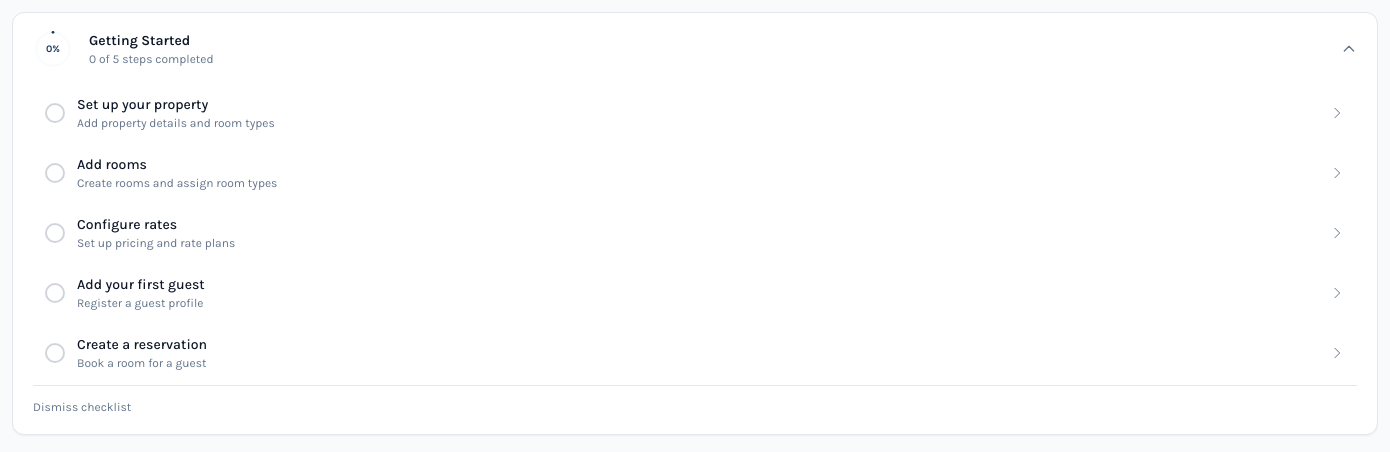
OnboardingChecklist › has proper aria-expanded attribute on toggle button
This screenshot has width=1390, height=452.
Click the button "0% Getting Started 0 of 5 steps completed". click: [53, 49]
box: [13,13,1377,85]
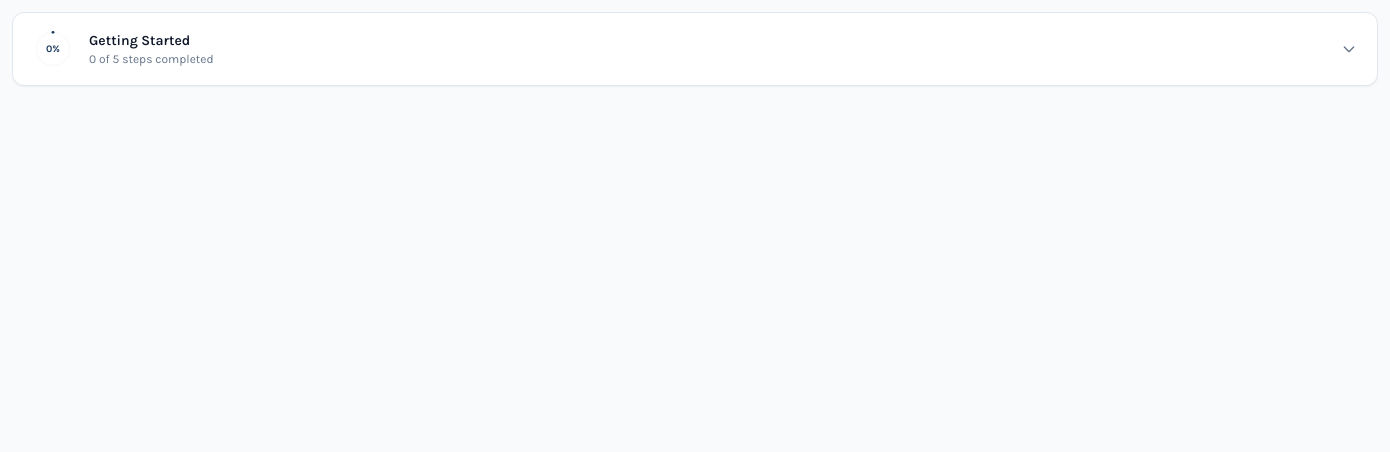
expect the button is collapsed: met, box [13,13,1377,85]
